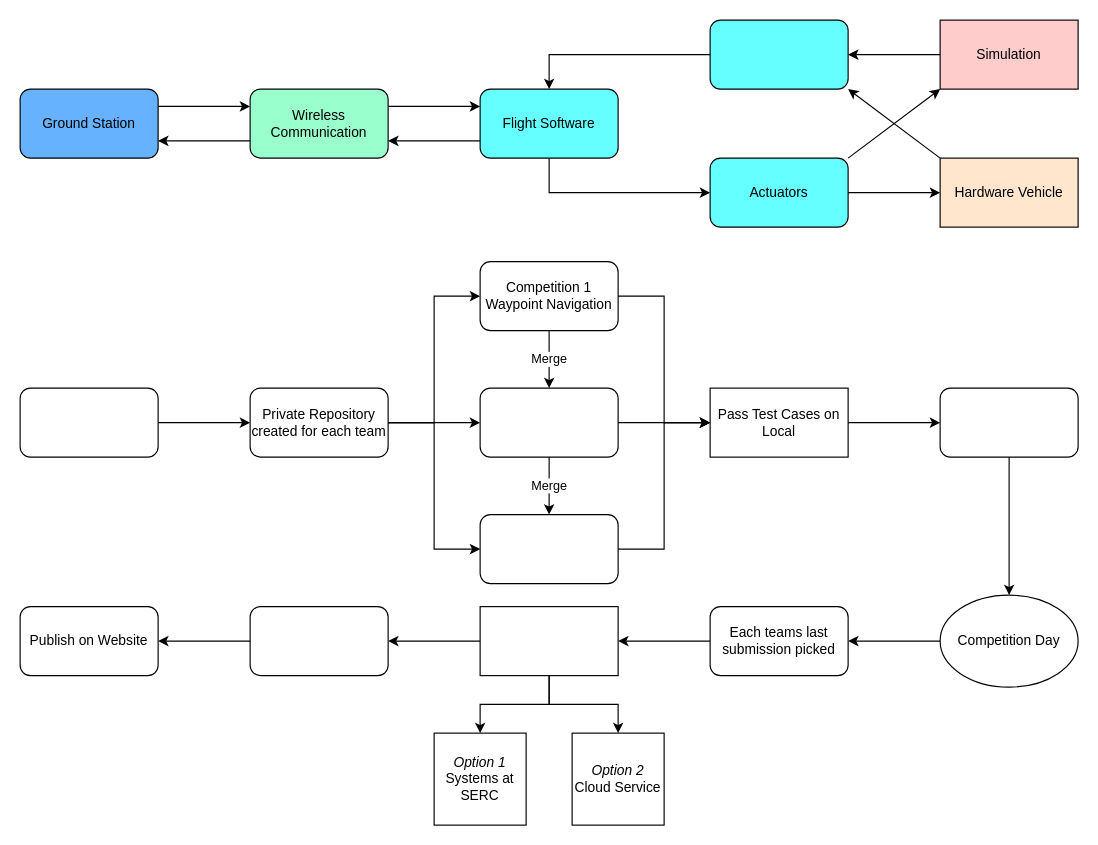
This 1098x845 diagram has some shape labels left out. Each missing label, with the centre of its shape:
"Competition 2 Maneuverability" belongs at point 548,422.
"Competition 3 Hardware Test" belongs at point 548,548.
"Generate Results" belongs at point 318,640.
"Sensors" belongs at point 778,54.
"Submit/Check-in solution on GitHub" belongs at point 1008,422.
"Teams Register on Github Classroom" belongs at point 88,422.
"Test System on Competition Environment" belongs at point 548,640.
